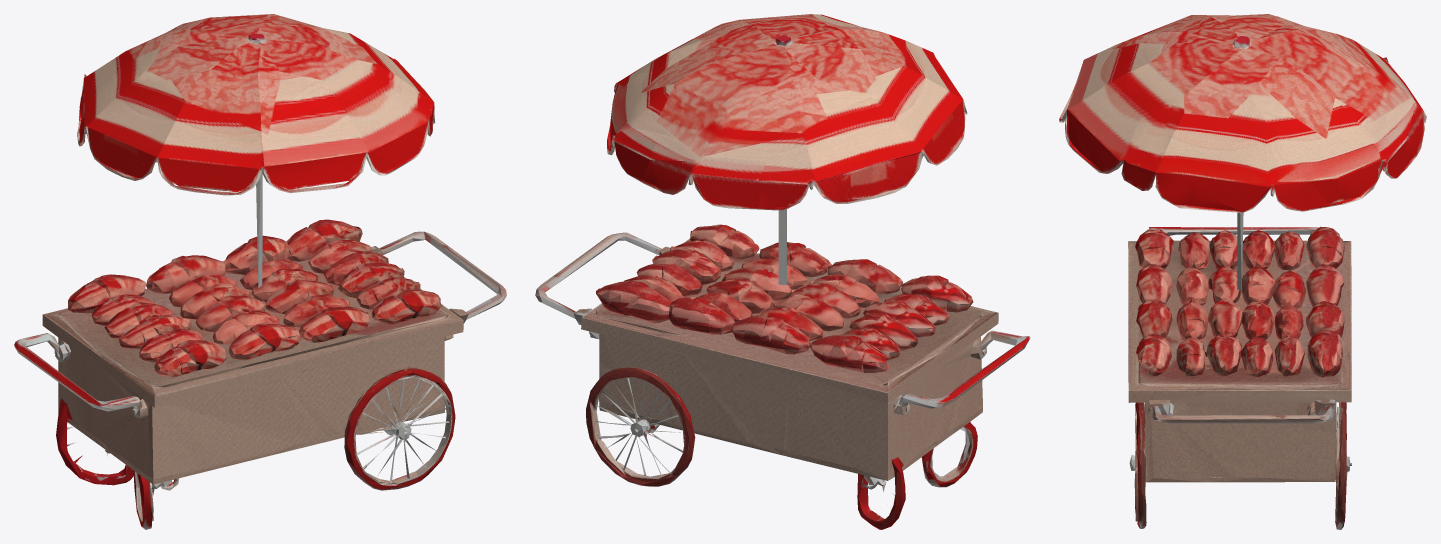
The picture shows the model from 3 angles, left to right: view 1: azimuth 30°, elevation 25°; view 2: azimuth 150°, elevation 25°; view 3: azimuth 270°, elevation 25°; orthographic projection.
Bounding box in the file's own units: 1.87 × 1.89 × 1.43.
Materials: 1 (1 with a texture image).
